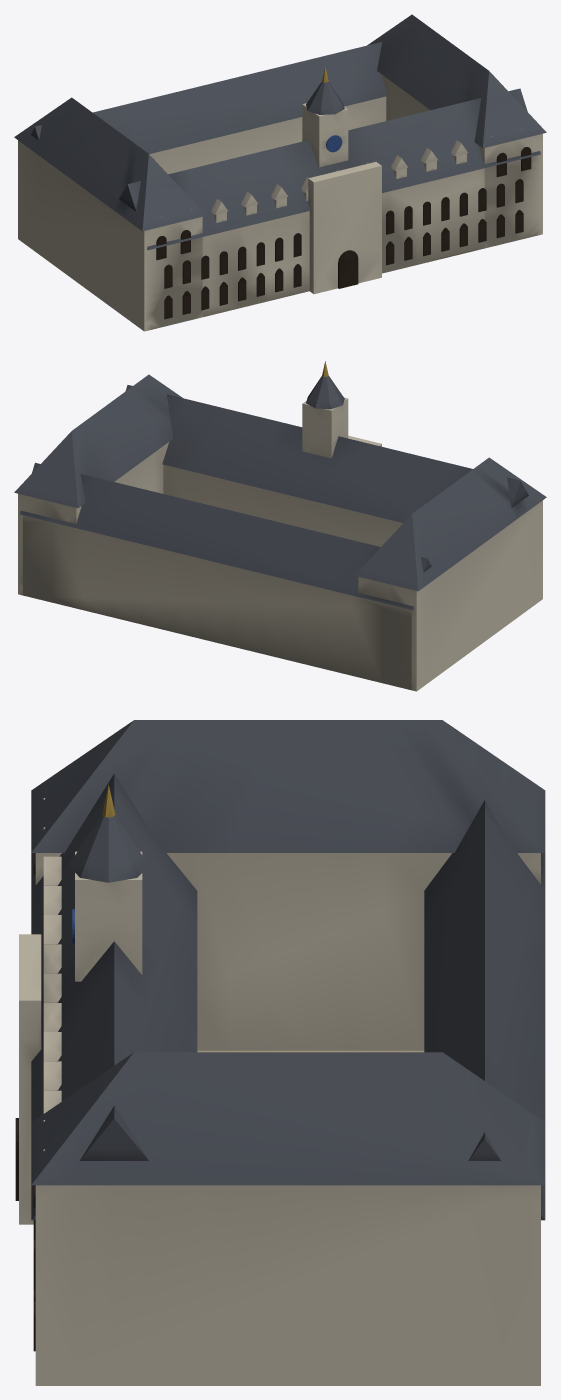
The model's file is hotel-de-ville.glb.
3 renders of one model, top to bottom at view 1: azimuth 30°, elevation 25°; view 2: azimuth 150°, elevation 25°; view 3: azimuth 270°, elevation 25°, orthographic. The views are drawn at different scales.
Visible parts, largest first — view 1: p1_roofs, p0_walls, p2_belfry; view 2: p1_roofs, p0_walls, p2_belfry; view 3: p1_roofs, p2_belfry, p0_walls.
Part boxes in pixels (x1=…): p1_roofs: x1=14, y1=14, x2=546, y2=331; p0_walls: x1=149, y1=96, x2=523, y2=319; p2_belfry: x1=302, y1=67, x2=381, y2=294; p1_roofs: x1=14, y1=374, x2=546, y2=691; p0_walls: x1=23, y1=464, x2=411, y2=690; p2_belfry: x1=302, y1=361, x2=381, y2=458; p1_roofs: x1=31, y1=720, x2=545, y2=1385; p2_belfry: x1=15, y1=785, x2=148, y2=1224; p0_walls: x1=33, y1=1050, x2=424, y2=1351.
Bounding box in the file's own units: 83.2 × 40 × 47.2.
